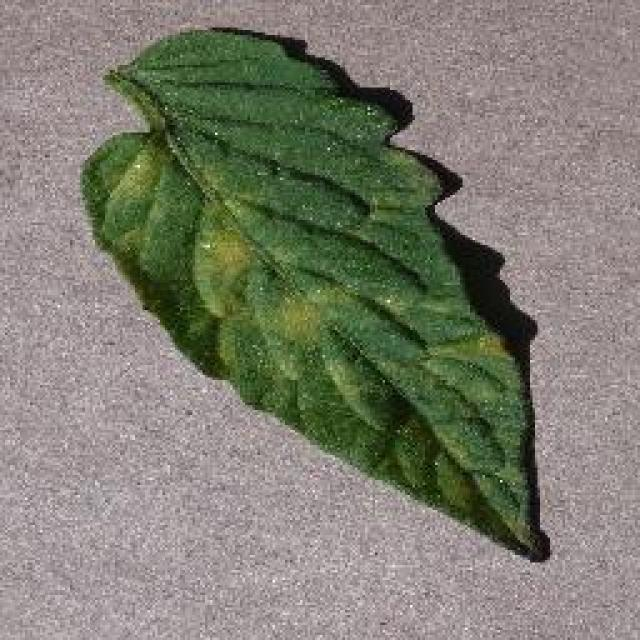Tomato___Leaf_Mold: (82, 30, 540, 552)
